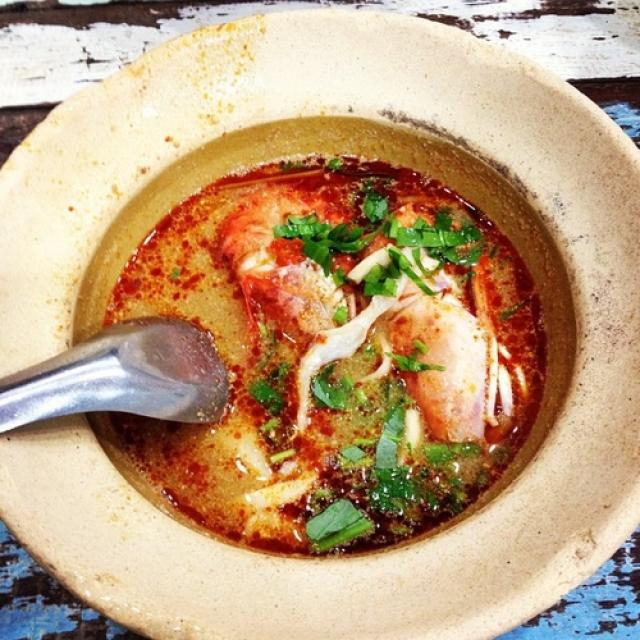汤锅炖物: (137, 138, 517, 520)
